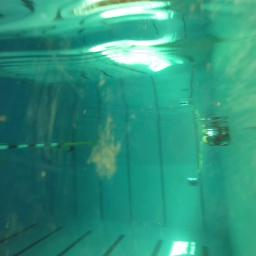Full: (202, 129, 230, 146)
front: (187, 177, 198, 185)
